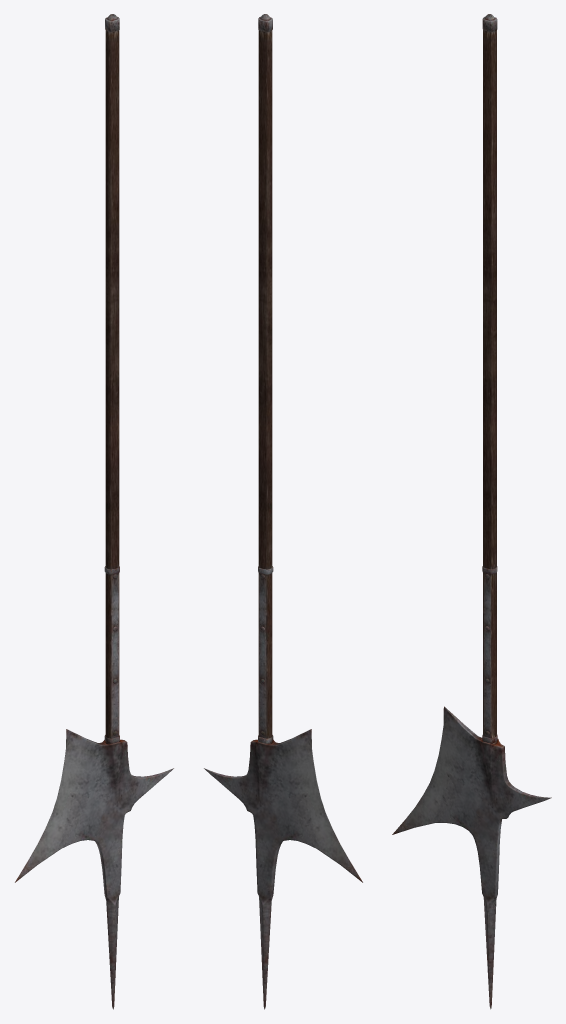
File: weapon-wp_a_1001.glb
3 views of the same model, side by side, from view 1: azimuth 30°, elevation 25°; view 2: azimuth 150°, elevation 25°; view 3: azimuth 330°, elevation 25° (orthographic).
Visible parts, largest first — view 1: wp_a_1001_mesh; view 2: wp_a_1001_mesh; view 3: wp_a_1001_mesh.
Boxes of the visible parts, <box> form: wp_a_1001_mesh: <box>15,14,173,1009</box>; wp_a_1001_mesh: <box>204,14,362,1009</box>; wp_a_1001_mesh: <box>392,14,551,1009</box>.
Size of the model in its own units: 0.459 by 2.73 by 0.0374.
Materials: 2 (2 with a texture image).
